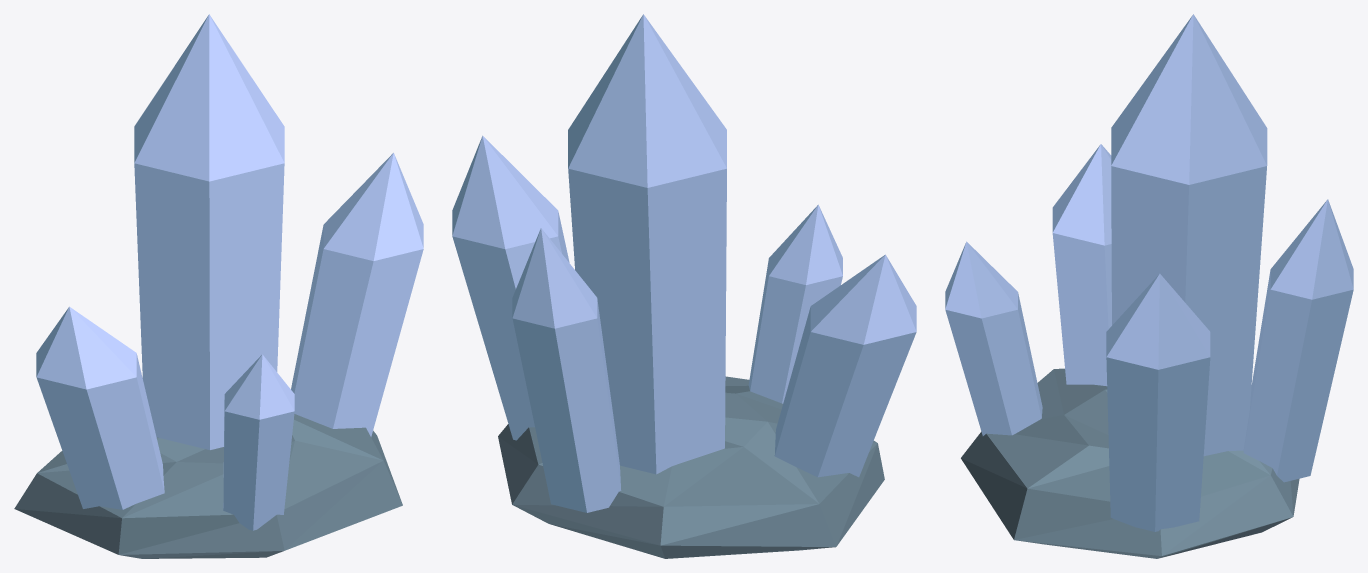
File: crystal_cluster_b.glb
The picture shows the model from 3 angles, left to right: view 1: azimuth 30°, elevation 25°; view 2: azimuth 150°, elevation 25°; view 3: azimuth 270°, elevation 25°; orthographic projection. The views are drawn at different scales.
Parts seen in each view (by area): view 1: crystals, geometry; view 2: crystals, geometry; view 3: crystals, geometry.
Part boxes in pixels (x1=…): crystals: x1=36, y1=14, x2=423, y2=530; geometry: x1=14, y1=414, x2=402, y2=558; crystals: x1=452, y1=14, x2=916, y2=512; geometry: x1=498, y1=376, x2=884, y2=558; crystals: x1=945, y1=14, x2=1353, y2=531; geometry: x1=961, y1=368, x2=1299, y2=558.
Bounding box in the file's own units: 0.8248 × 0.9 × 0.6803.
